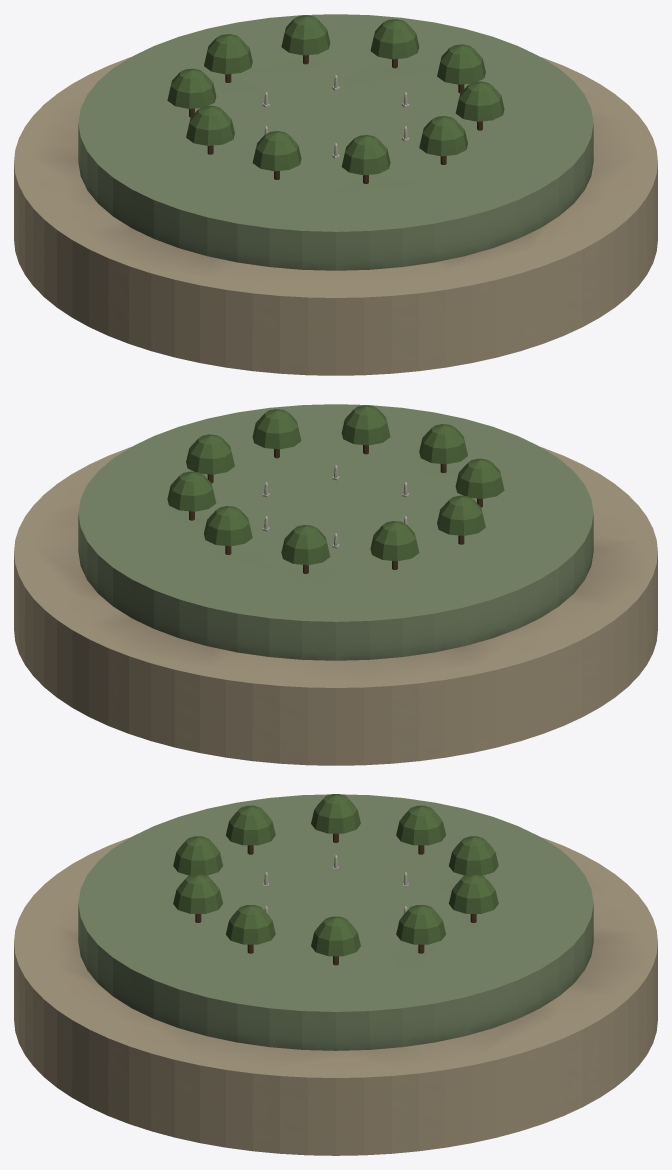
The model's file is mausoleum-of-augustus-ruin.glb.
The picture shows the model from 3 angles, top to bottom: view 1: azimuth 30°, elevation 25°; view 2: azimuth 150°, elevation 25°; view 3: azimuth 270°, elevation 25°; orthographic projection.
Visible parts, largest first — view 1: p1_garden, p0_drum, p2_trees; view 2: p1_garden, p0_drum, p2_trees; view 3: p1_garden, p0_drum, p2_trees.
Boxes of the visible parts, box(x1,y1,x2,y2) form: p1_garden: box(78, 14, 593, 270); p0_drum: box(14, 57, 657, 375); p2_trees: box(167, 15, 504, 183); p1_garden: box(78, 404, 593, 660); p0_drum: box(14, 447, 657, 765); p2_trees: box(167, 405, 504, 573); p1_garden: box(78, 794, 593, 1050); p0_drum: box(14, 837, 657, 1155); p2_trees: box(173, 794, 498, 965).
Size of the model in its own units: 90 by 25.18 by 90.
